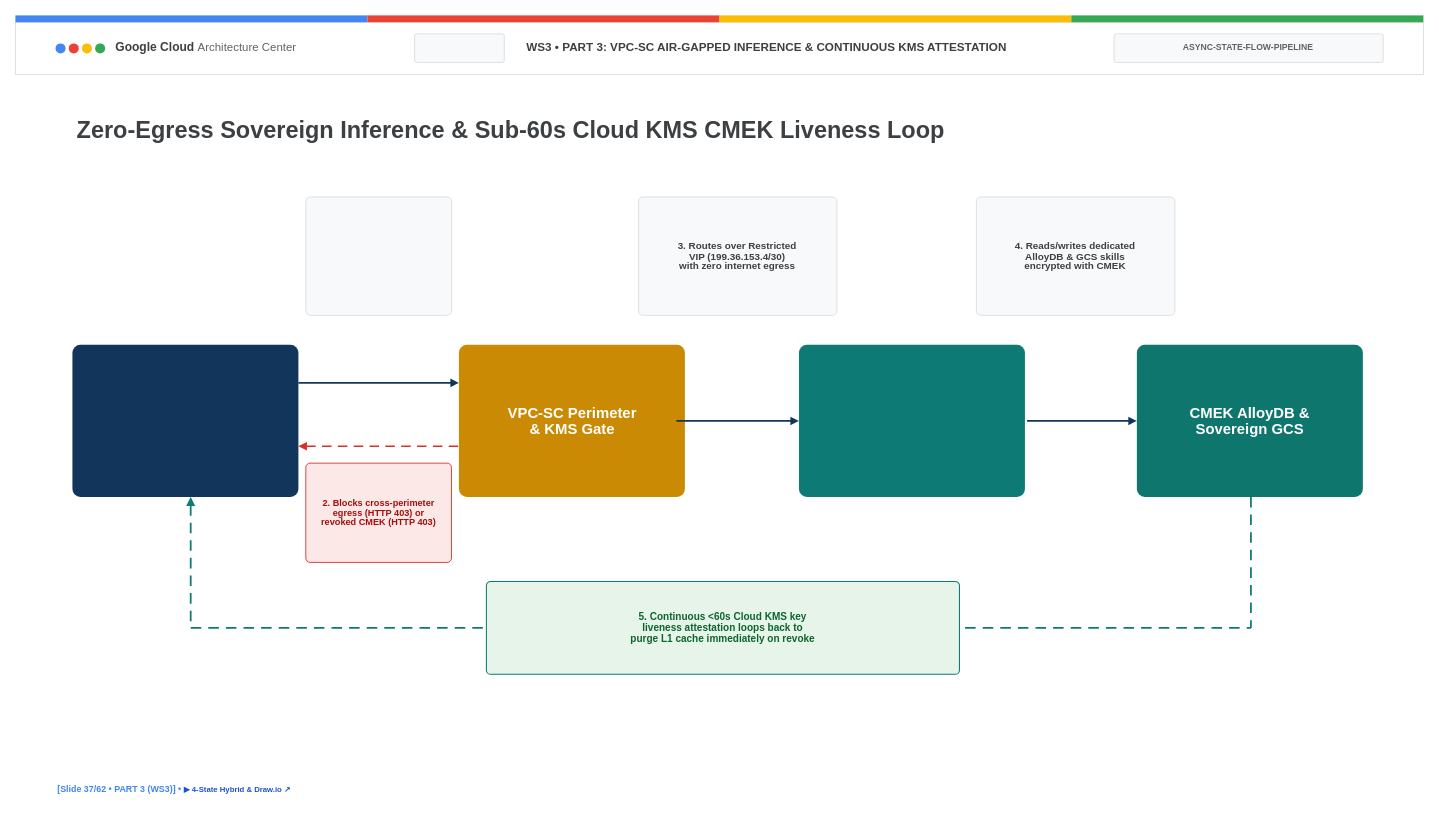
Image size: 1439x816. Some labels were removed from this diagram. Here are the shapes that lost their labels. From the top down, the box of each, then its label:
(414, 33, 504, 62): WS3
(305, 196, 452, 315): 1. Authenticates tenant principal inside PAB
(72, 344, 298, 496): Sovereign Tenant Ingress & PAB
(799, 344, 1024, 496): Private GKE Gemma 3 / Vertex Silo
